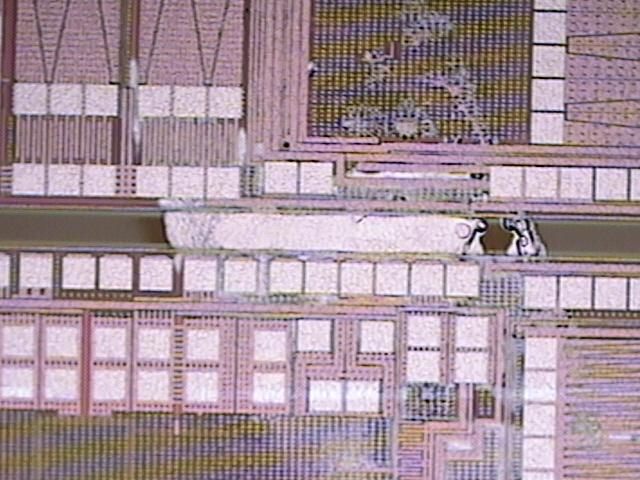BLOCK ETCH: (115, 1, 640, 480)
